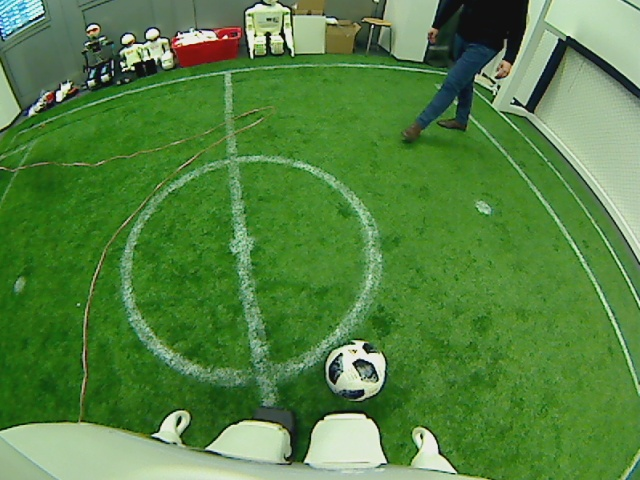ball: (322, 338, 388, 403)
